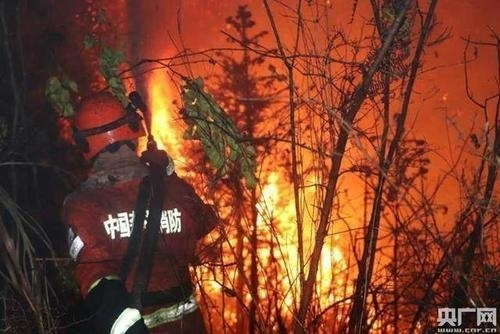fire: (207, 167, 363, 325), (139, 59, 184, 160)
